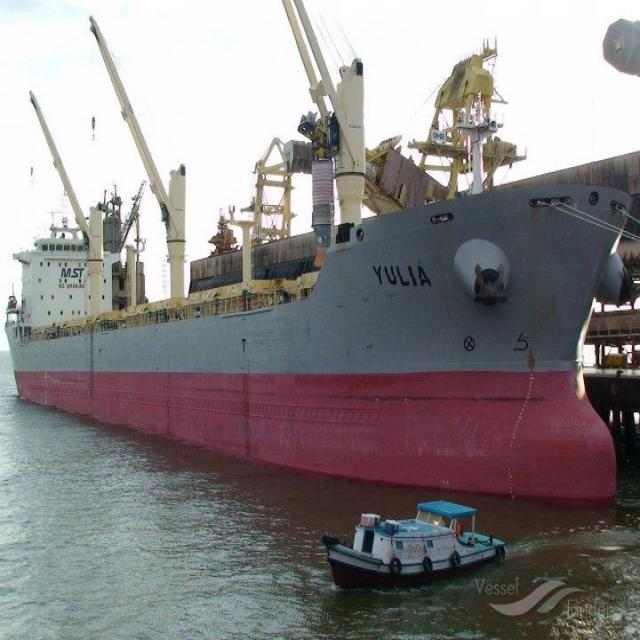OCR: (369, 254, 431, 292)
